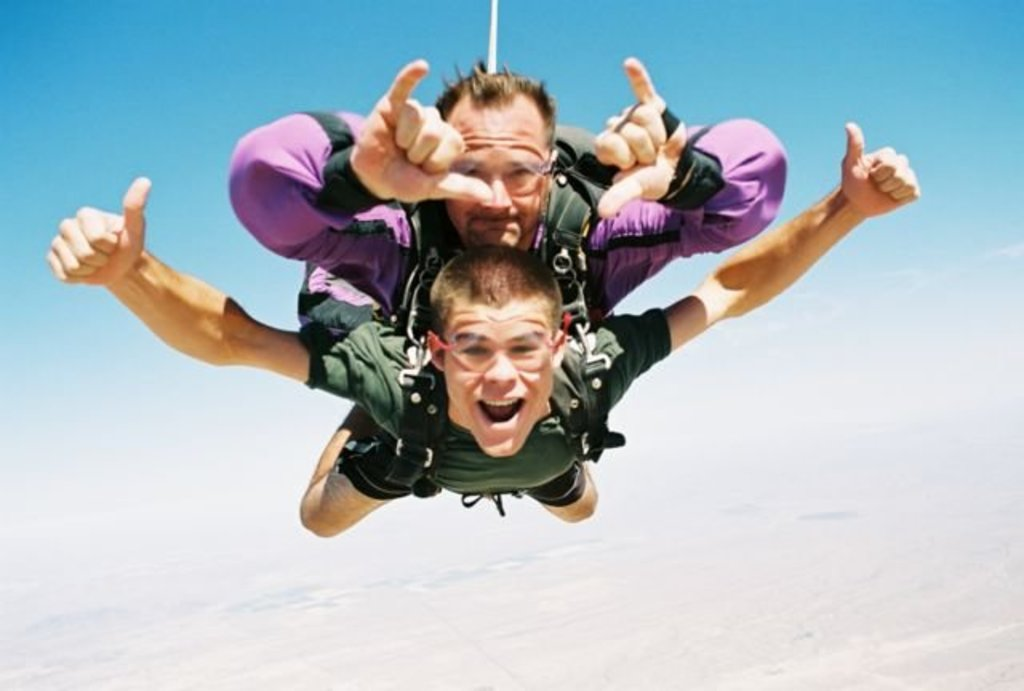Human_hand: (349, 61, 463, 201), (598, 57, 689, 215), (46, 181, 150, 284), (837, 125, 920, 218)
